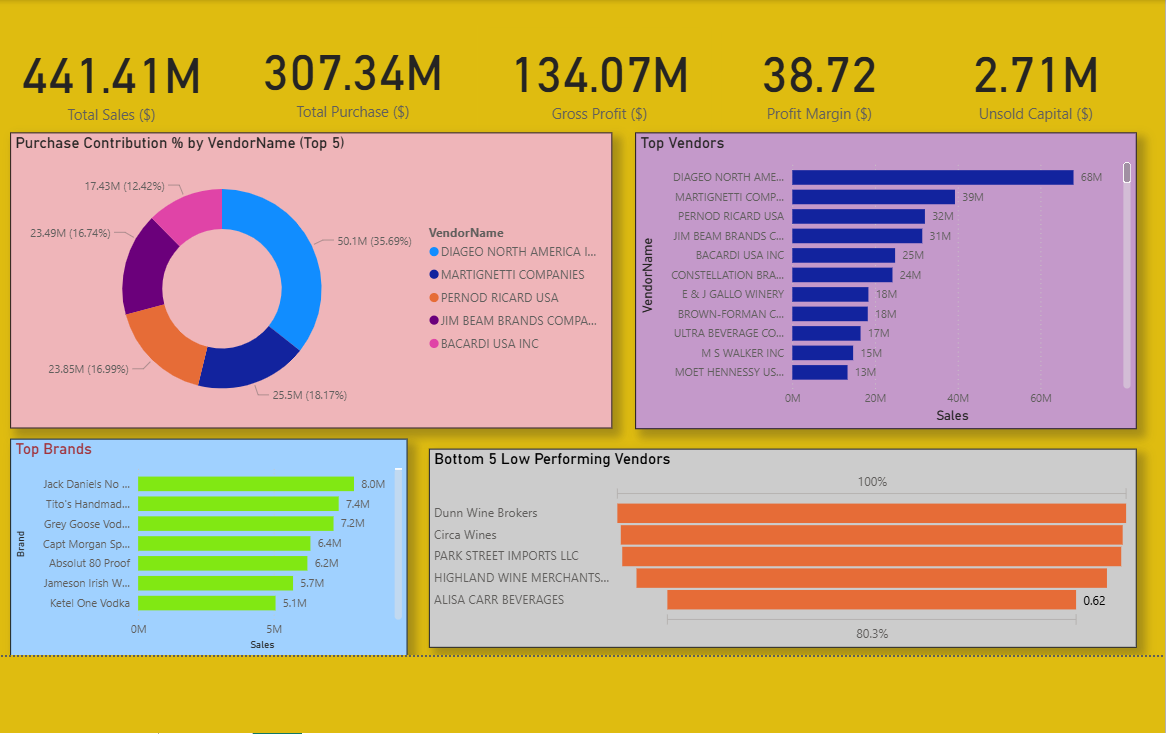

This screenshot's page, from the dashboard's own definition file:
{"tool":"powerbi","page":{"name":"Page 1","canvas":[1280,720],"ordinal":0},"visuals":[{"type":"card","fields":{"Values":["Sum(vendor_sales_summary.TotalSalesDollars)"]},"box":[12.4,32.3,222.7,108.2],"z":0},{"type":"card","fields":{"Values":["Sum(vendor_sales_summary.TotalPurchaseDollars)"]},"box":[252.5,27.4,272.4,112],"z":1},{"type":"card","fields":{"Values":["Sum(vendor_sales_summary.GrossProfit)"]},"box":[536.2,30.5,245.6,111.9],"z":2},{"type":"card","fields":{"Values":["Avg(vendor_sales_summary.ProfitMargin)"]},"box":[793.6,33.6,215.2,105.7],"z":3},{"type":"card","fields":{"Values":["Sum(vendor_sales_summary.UnsoldCapital)"]},"box":[1027.5,33.6,221.4,107],"z":4},{"type":"donutChart","fields":{"Category":["PurchaseContribution.VendorName"],"Y":["Sum(PurchaseContribution.TotalPurchaseDollars)"]},"box":[12.4,145.5,691.6,324.7],"z":5},{"type":"barChart","fields":{"Category":["vendor_sales_summary.VendorName"],"Y":["Sum(vendor_sales_summary.TotalSalesDollars)"]},"box":[748.9,170.4,518.7,252.5],"z":6},{"type":"clusteredBarChart","fields":{"Category":["vendor_sales_summary.Description"],"Y":["Sum(vendor_sales_summary.TotalSalesDollars)"]},"box":[230.1,481.4,778.7,238.8],"z":7}]}

Visuals, with their boxes on the page's 1280x720 design canvas (x1, y1, x2, y2). These are canvas units, not pixel positions in the 1166x734 screenshot, which may show the page scaled, cropped or inside an application window:
card - Sum(vendor_sales_summary.TotalSalesDollars): (12,32,235,140)
card - Sum(vendor_sales_summary.TotalPurchaseDollars): (252,27,525,139)
card - Sum(vendor_sales_summary.GrossProfit): (536,30,782,142)
card - Avg(vendor_sales_summary.ProfitMargin): (794,34,1009,139)
card - Sum(vendor_sales_summary.UnsoldCapital): (1028,34,1249,141)
donutChart - PurchaseContribution.VendorName x Sum(PurchaseContribution.TotalPurchaseDollars): (12,146,704,470)
barChart - vendor_sales_summary.VendorName x Sum(vendor_sales_summary.TotalSalesDollars): (749,170,1268,423)
clusteredBarChart - vendor_sales_summary.Description x Sum(vendor_sales_summary.TotalSalesDollars): (230,481,1009,720)
